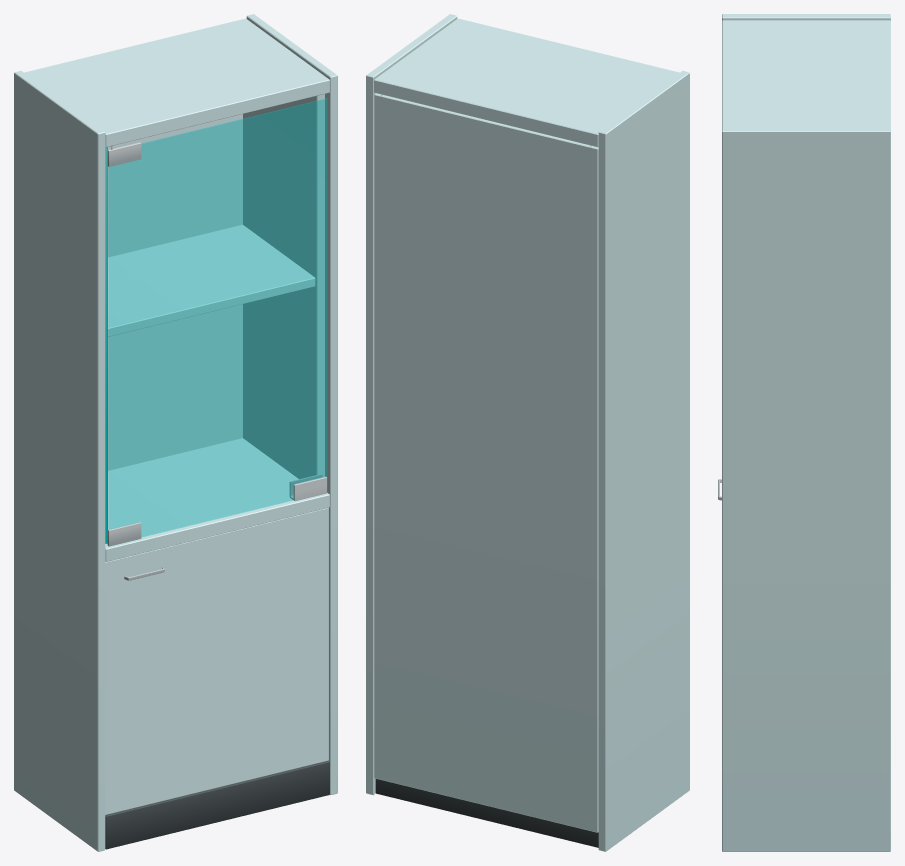
The model's file is Cupboard.fbx.
The picture shows the model from 3 angles, left to right: view 1: azimuth 30°, elevation 25°; view 2: azimuth 150°, elevation 25°; view 3: azimuth 270°, elevation 25°; orthographic projection.
Parts seen in each view (by area): view 1: Large_Cupboard:lab_cupboard_open; view 2: Large_Cupboard:lab_cupboard_open; view 3: Large_Cupboard:lab_cupboard_open.
Part boxes in pixels (box(x1,y1,x2,y2)): Large_Cupboard:lab_cupboard_open: box(14, 14, 337, 851); Large_Cupboard:lab_cupboard_open: box(366, 14, 689, 851); Large_Cupboard:lab_cupboard_open: box(718, 14, 890, 851).
Bounding box in the file's own units: 0.7 × 2 × 0.4346.
